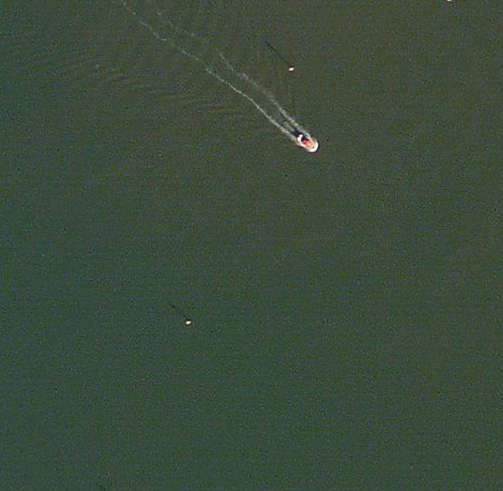ship: (289, 130, 325, 157)
